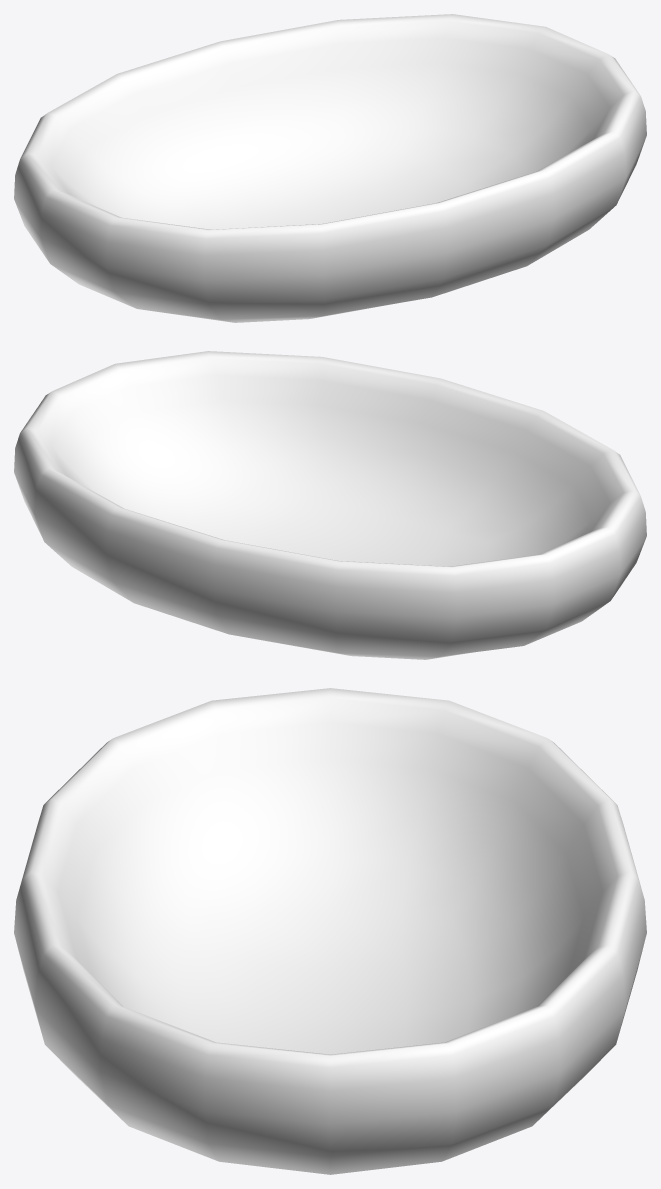
The model's file is Prop_Sink_03.fbx.
3 views of the same model, one above another, from view 1: azimuth 30°, elevation 25°; view 2: azimuth 150°, elevation 25°; view 3: azimuth 270°, elevation 25° (orthographic). The views are drawn at different scales.
Parts seen in each view (by area): view 1: Prop_Sink_03; view 2: Prop_Sink_03; view 3: Prop_Sink_03.
Part boxes in pixels (left/top/right/bottom): Prop_Sink_03: left=14, top=14, right=646, bottom=322; Prop_Sink_03: left=14, top=351, right=646, bottom=659; Prop_Sink_03: left=14, top=688, right=646, bottom=1174.
Size of the model in its own units: 52.06 by 11.45 by 36.36.
